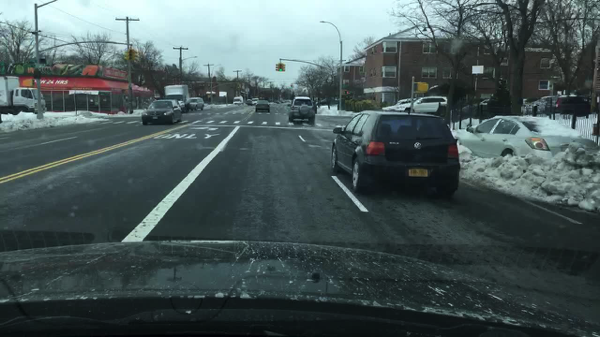car: (331, 110, 460, 192), (457, 117, 582, 159), (142, 100, 183, 125), (287, 97, 316, 123), (399, 97, 446, 113), (522, 96, 555, 116), (555, 96, 591, 114), (382, 99, 415, 113), (191, 98, 204, 110), (256, 101, 270, 112), (234, 97, 243, 105), (480, 98, 492, 104), (313, 103, 317, 114), (252, 99, 258, 105), (246, 101, 252, 105)
person: (122, 95, 129, 113)
traffic light: (418, 83, 429, 93), (133, 50, 138, 61), (275, 64, 280, 72), (126, 51, 130, 60), (34, 72, 40, 78), (279, 64, 283, 71), (130, 49, 132, 61), (40, 59, 46, 63), (282, 65, 285, 72)
truck: (0, 77, 47, 114), (164, 85, 190, 112)
